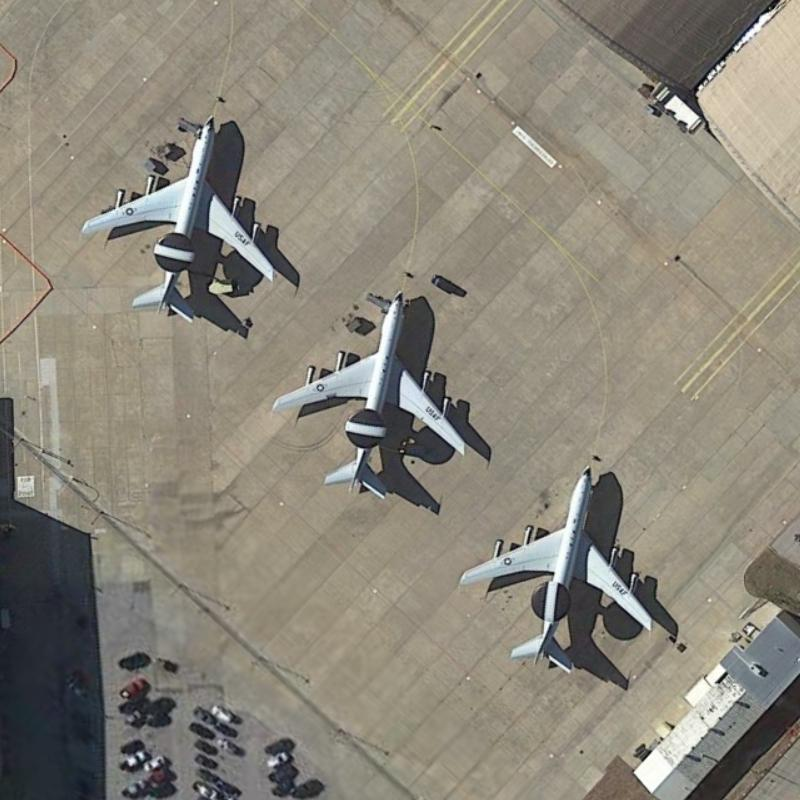A7: (71, 105, 285, 330), (452, 456, 666, 677), (267, 281, 473, 508)
